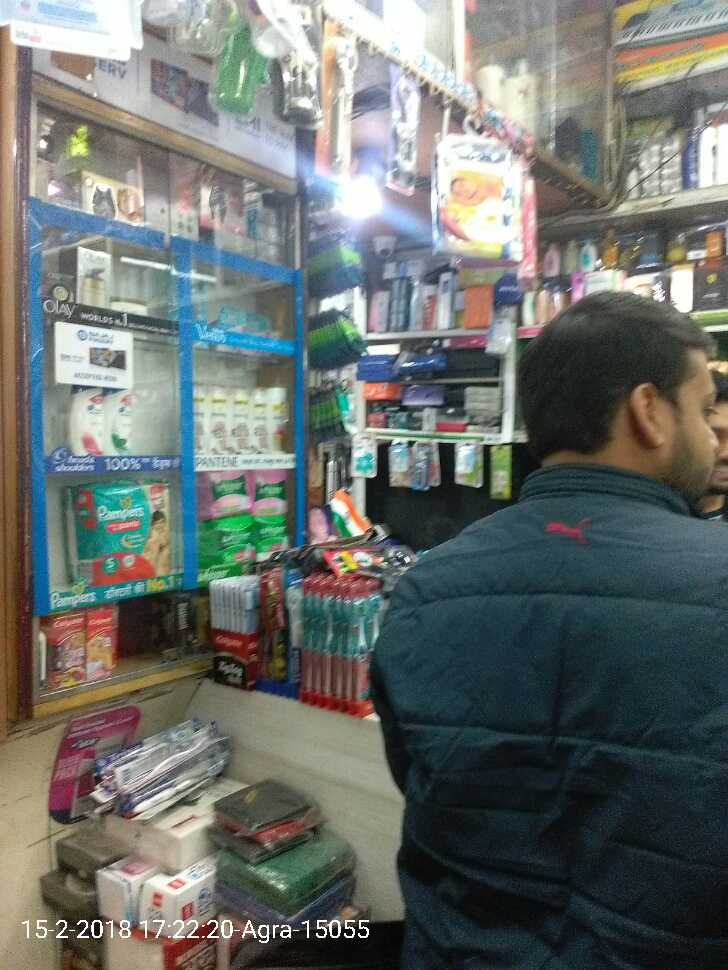venus: (193, 268, 207, 319), (220, 309, 244, 335), (244, 316, 276, 335)
